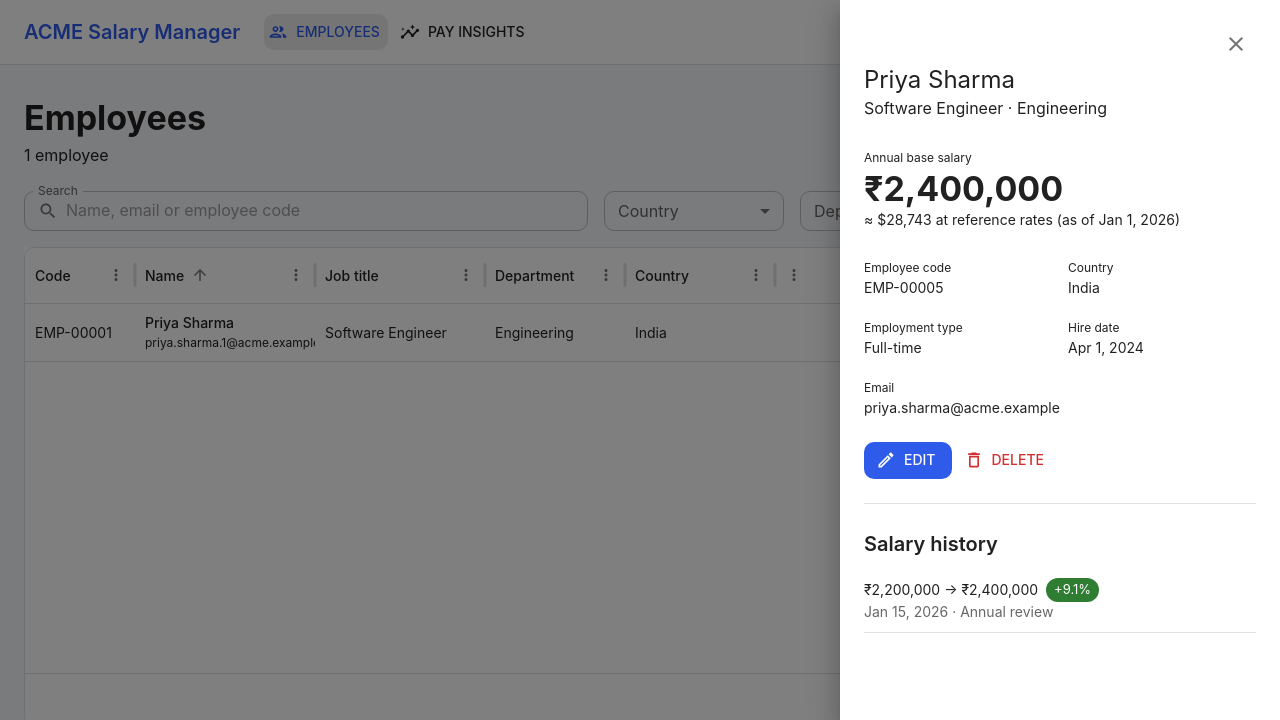
managing employees › updates a salary with a reason, sending only the changed fields
Click the button "Edit".
click(908, 460)  # box x1=864 y1=442 x2=952 y2=479
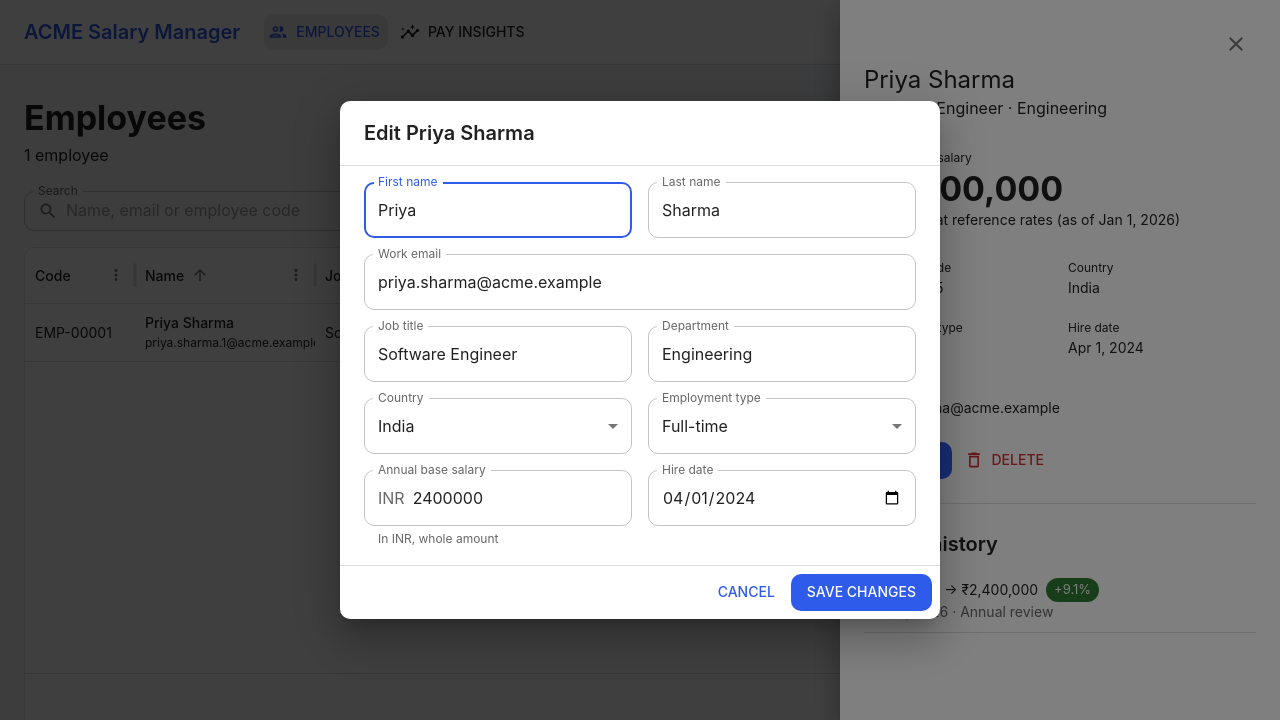
Clear the field labelled "Annual base salary" at (522, 498), box x1=413 y1=470 x2=632 y2=526
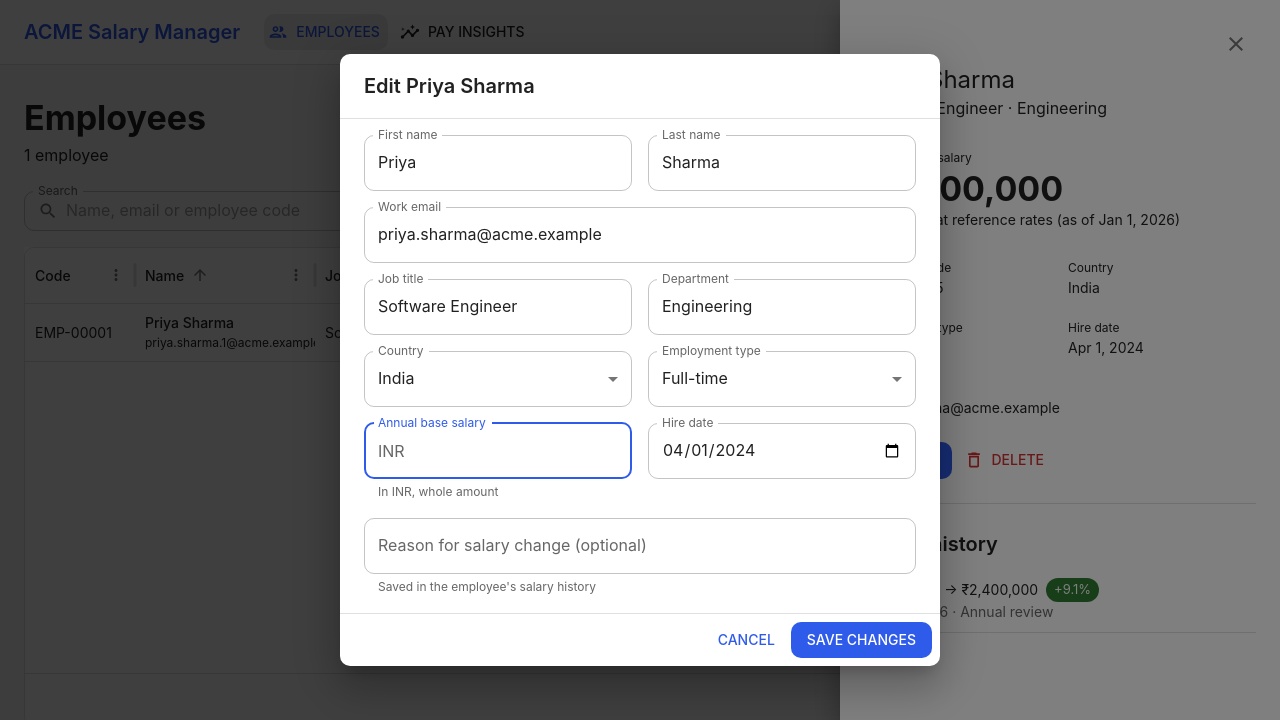
Type "2700000" into the field labelled "Annual base salary".
click(522, 451); type("2700000")  # box x1=413 y1=423 x2=632 y2=479
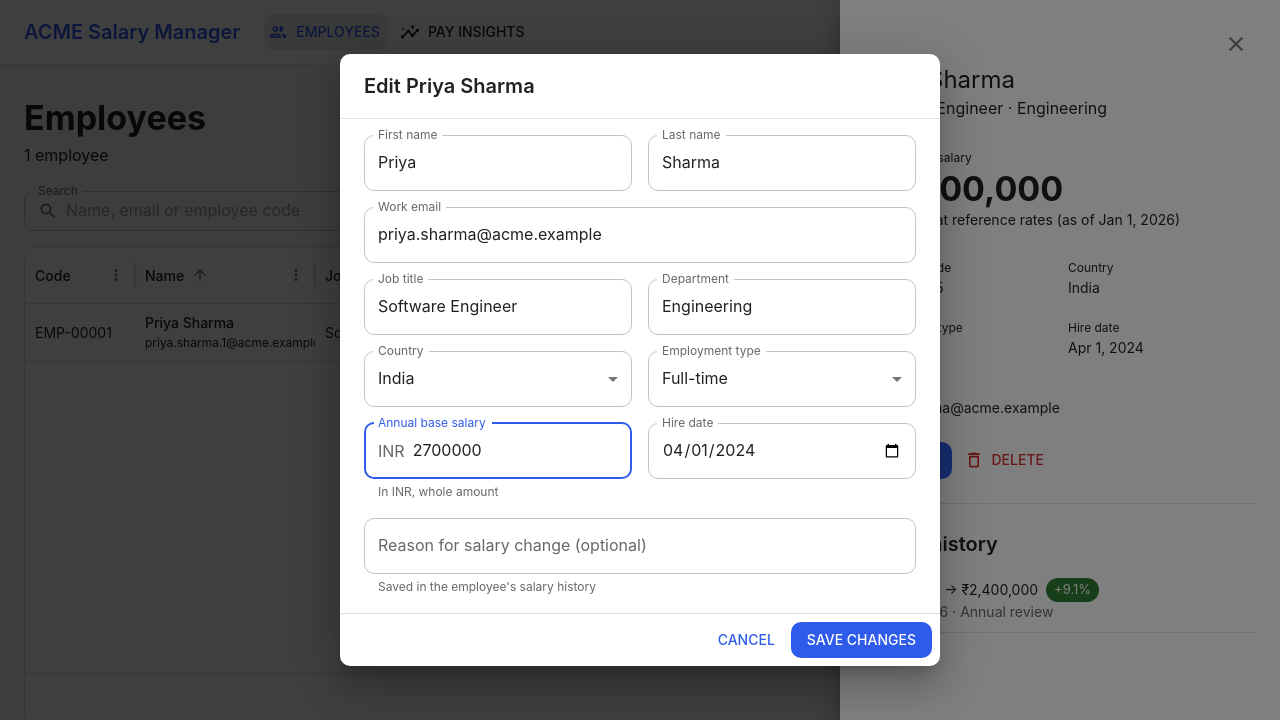
Type "Promotion" into the field labelled "Reason for salary change (optional)".
click(640, 546); type("Promotion")  # box x1=364 y1=518 x2=916 y2=574
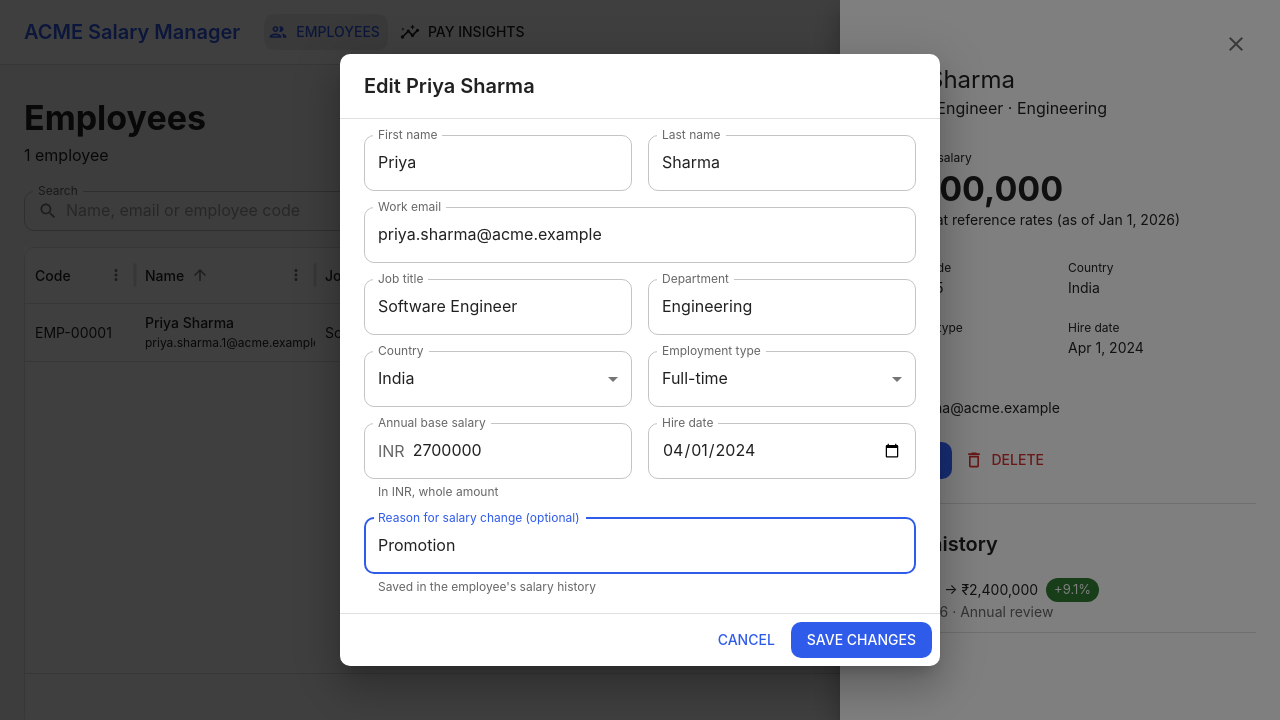
Click the button "Save changes".
click(861, 640)  # box x1=791 y1=622 x2=932 y2=658
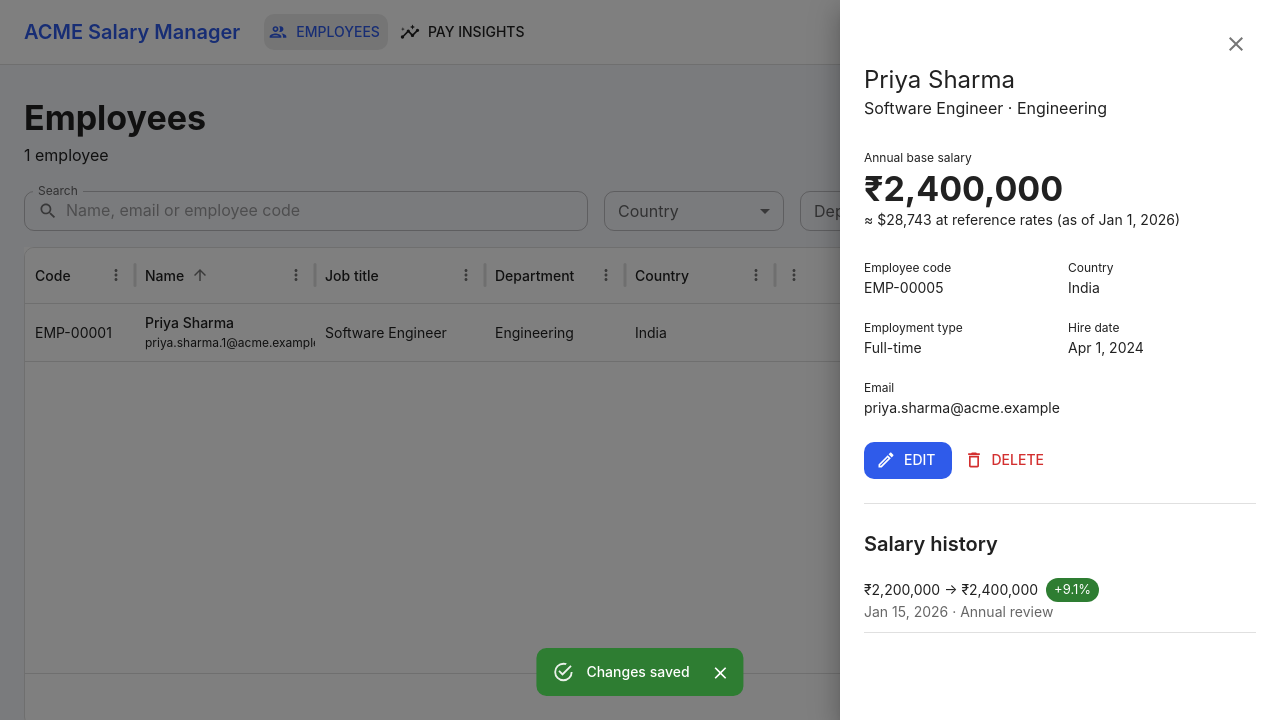
Result: the text "Changes saved" is shown at x1=586 y1=663 x2=690 y2=680
